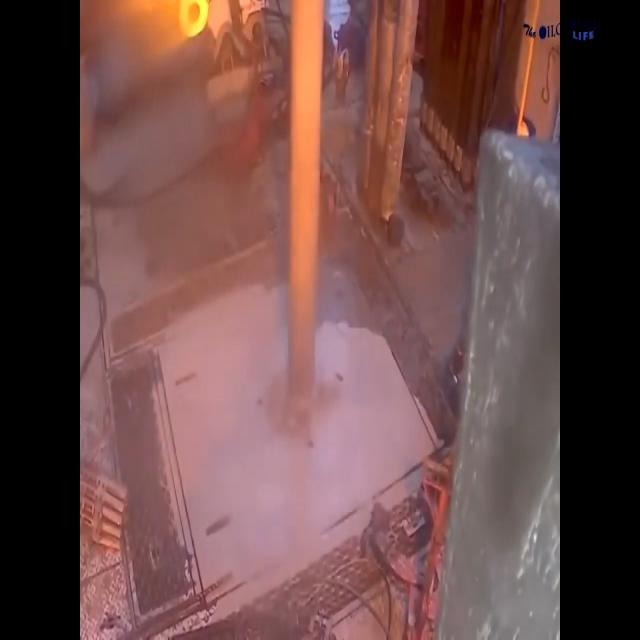spillage: (155, 282, 453, 616)
